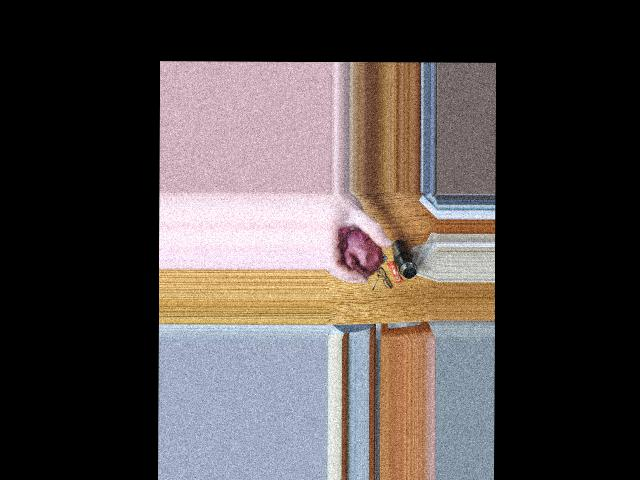onion: (346, 237, 376, 275)
